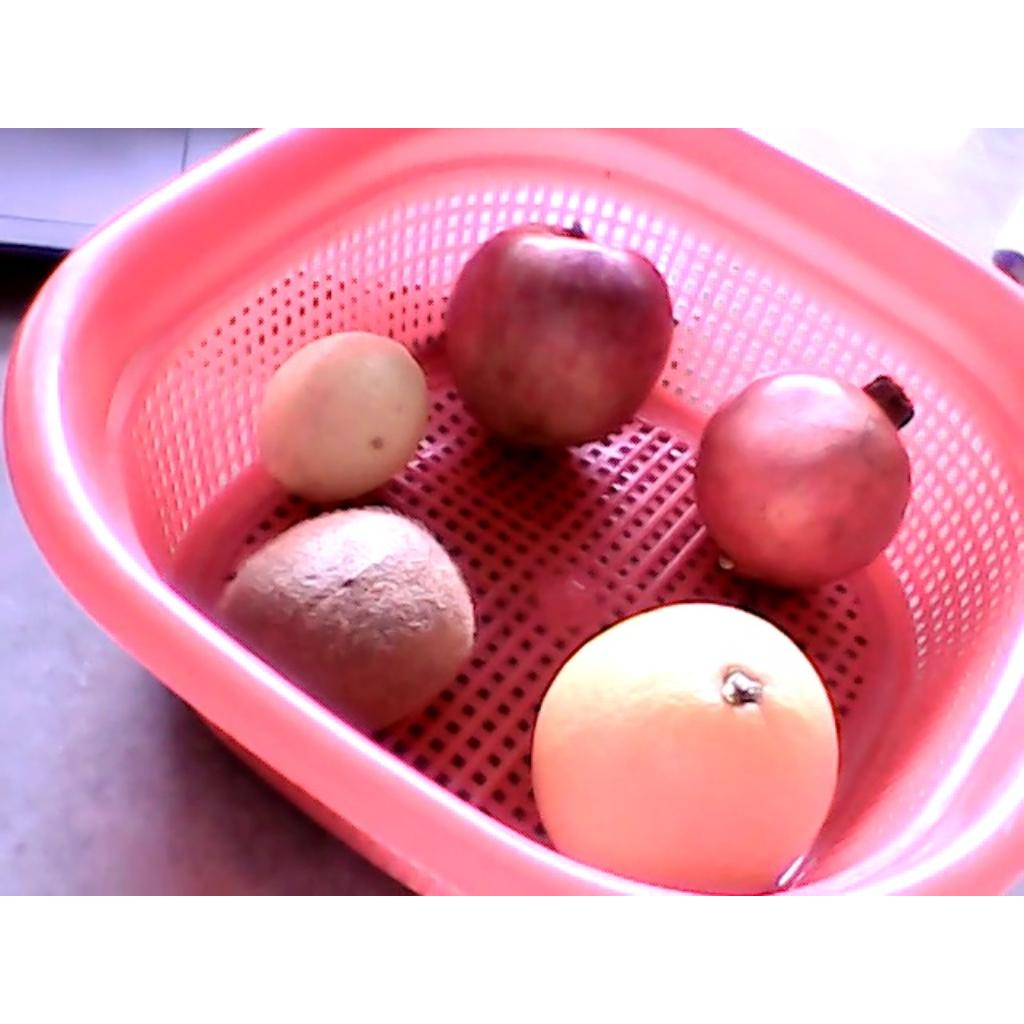apple: (445, 220, 675, 447)
kiwi: (204, 504, 477, 733)
lemon: (253, 331, 426, 503)
orange: (531, 603, 840, 893)
pomegranate: (695, 370, 913, 589)
